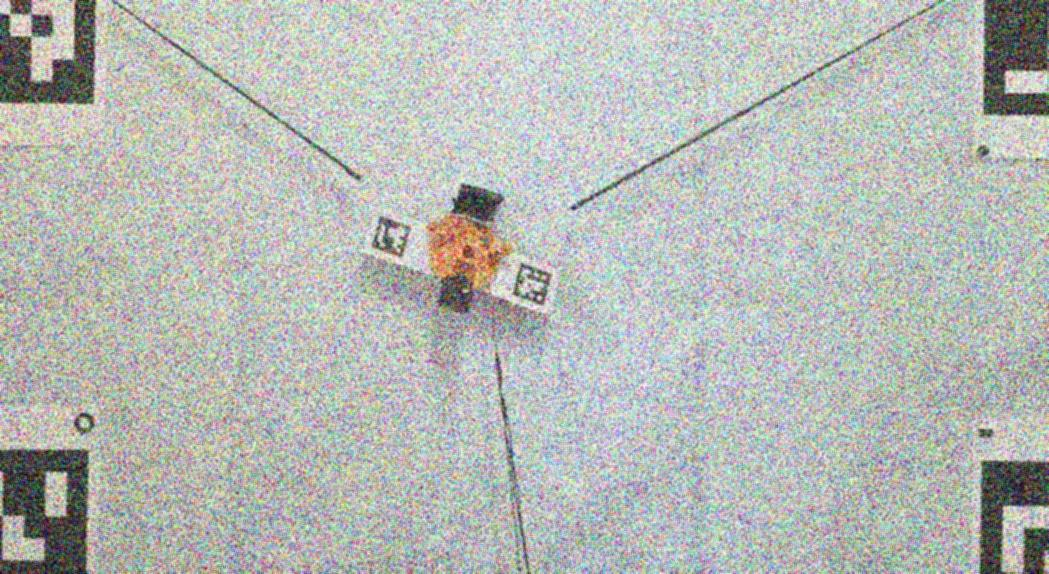robot: (425, 184, 513, 315)
